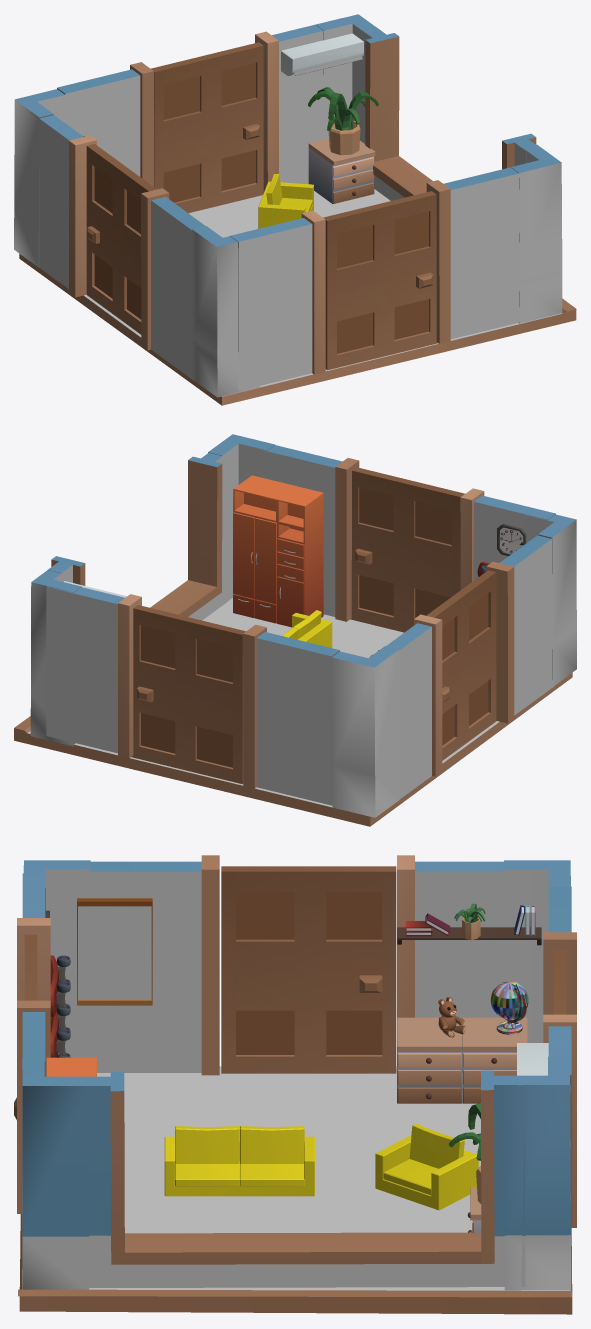
Rendered from SALON.fbx.
The picture shows the model from 3 angles, top to bottom: view 1: azimuth 30°, elevation 25°; view 2: azimuth 150°, elevation 25°; view 3: azimuth 270°, elevation 25°; orthographic projection. The views are drawn at different scales.
Visible parts, largest first — view 1: paret_puerta42, puerta27, paret_puerta47, puerta25, paret_puerta43, puerta30, paret_esquina_85, paret_esquina_77, paret_con_ventana_grande20, suelo11, mesita_con_planta2, paret_esquina_73 (+4 smaller); view 2: paret_puerta43, puerta25, paret_puerta47, puerta27, armario4, paret_puerta42, paret_esquina_73, puerta30, suelo11, paret_con_ventana_grande20, paret_esquina_85, paret_esquina_80 (+4 smaller); view 3: paret_puerta47, puerta30, paret_con_ventana_grande20, suelo11, fombra8, sofas2, paret_esquina_77, paret_esquina_80, comod_con_jugere_y_globus2, cuadro7, paret_puerta42, paret_puerta43 (+9 smaller).
Boxes of the visible parts, x1=… form: paret_puerta42: x1=230, y1=167, x2=519, y2=390; puerta27: x1=323, y1=191, x2=437, y2=370; paret_puerta47: x1=30, y1=112, x2=204, y2=380; puerta25: x1=151, y1=42, x2=263, y2=213; paret_puerta43: x1=57, y1=18, x2=340, y2=192; puerta30: x1=86, y1=144, x2=156, y2=334; paret_esquina_85: x1=192, y1=226, x2=260, y2=397; paret_esquina_77: x1=511, y1=144, x2=562, y2=323; paret_con_ventana_grande20: x1=361, y1=26, x2=536, y2=200; suelo11: x1=19, y1=183, x2=576, y2=405; mesita_con_planta2: x1=308, y1=87, x2=378, y2=203; paret_esquina_73: x1=14, y1=89, x2=65, y2=267; paret_puerta43: x1=46, y1=586, x2=339, y2=805; puerta25: x1=131, y1=605, x2=245, y2=784; paret_puerta47: x1=386, y1=535, x2=552, y2=798; puerta27: x1=350, y1=467, x2=464, y2=632; armario4: x1=233, y1=475, x2=323, y2=627; paret_puerta42: x1=262, y1=445, x2=555, y2=621; paret_esquina_73: x1=332, y1=646, x2=399, y2=817; puerta30: x1=426, y1=570, x2=496, y2=760; suelo11: x1=14, y1=598, x2=572, y2=826; paret_con_ventana_grande20: x1=48, y1=453, x2=226, y2=620; paret_esquina_85: x1=525, y1=514, x2=576, y2=686; paret_esquina_80: x1=30, y1=568, x2=81, y2=746; paret_puerta47: x1=84, y1=855, x2=529, y2=1075; puerta30: x1=221, y1=866, x2=396, y2=1073; paret_con_ventana_grande20: x1=89, y1=1070, x2=525, y2=1287; suelo11: x1=18, y1=1066, x2=572, y2=1314; fombra8: x1=140, y1=1107, x2=480, y2=1221; sofas2: x1=164, y1=1124, x2=478, y2=1210; paret_esquina_77: x1=22, y1=1058, x2=89, y2=1289; paret_esquina_80: x1=503, y1=1056, x2=571, y2=1290; comod_con_jugere_y_globus2: x1=397, y1=981, x2=528, y2=1103; cuadro7: x1=77, y1=898, x2=152, y2=1005; paret_puerta42: x1=17, y1=873, x2=50, y2=1213; paret_puerta43: x1=543, y1=886, x2=576, y2=1276.
Bounding box in the file's own units: 842 × 364 × 836.
